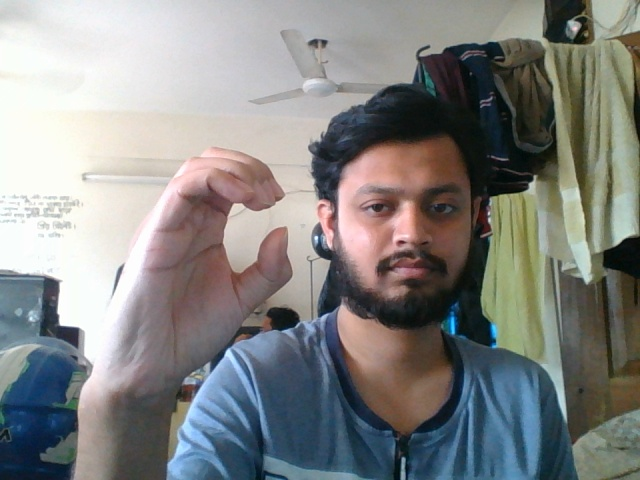ka: (91, 142, 300, 409)
